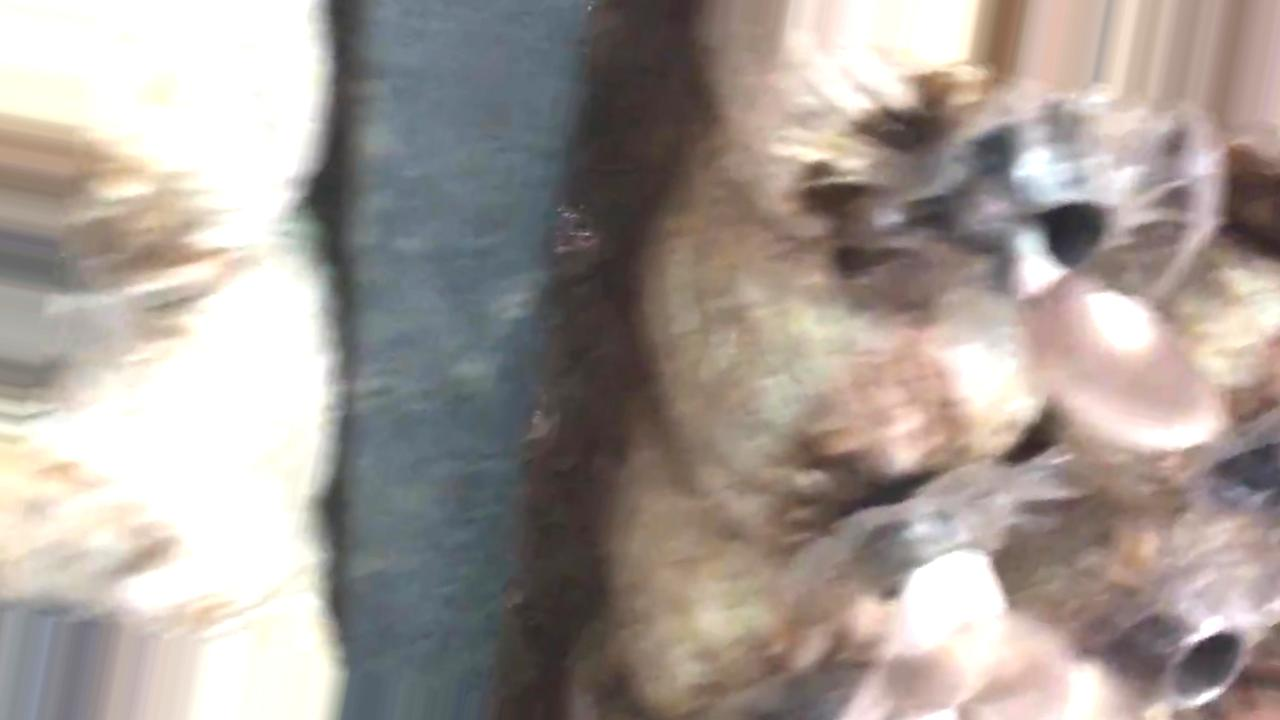nam: (960, 138, 1227, 456)
